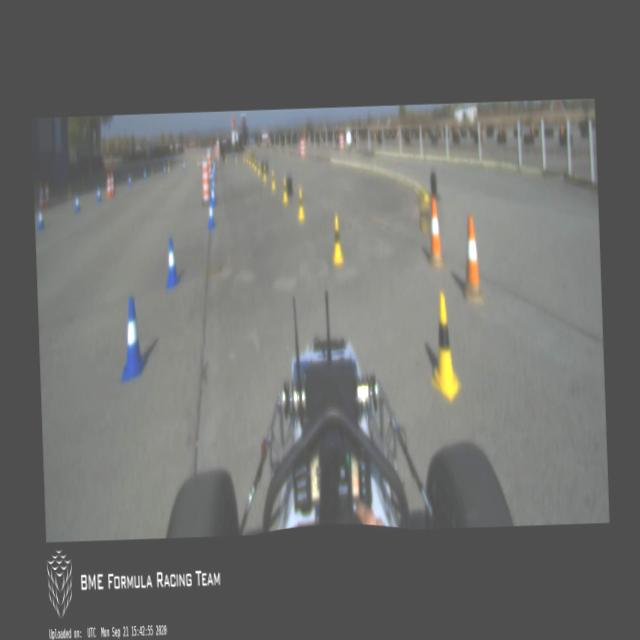blue_cone: (118, 295, 146, 383), (163, 236, 180, 288), (207, 200, 214, 230), (37, 204, 43, 230), (210, 184, 216, 206), (74, 194, 80, 213), (96, 187, 101, 203), (210, 176, 214, 192), (127, 174, 131, 188), (142, 167, 146, 180), (162, 163, 165, 176), (210, 170, 213, 182), (212, 166, 214, 177)
large_orange_cone: (38, 182, 44, 210), (104, 174, 110, 198), (44, 183, 49, 208), (110, 172, 115, 196)
yellow_cone: (428, 292, 461, 400), (330, 213, 343, 266), (296, 188, 304, 221), (282, 176, 288, 204), (270, 169, 275, 191), (262, 164, 266, 182), (257, 161, 260, 175), (253, 158, 256, 172), (248, 153, 251, 165), (167, 161, 170, 172), (242, 152, 245, 162), (234, 152, 237, 162), (246, 152, 248, 164), (252, 156, 254, 167)
